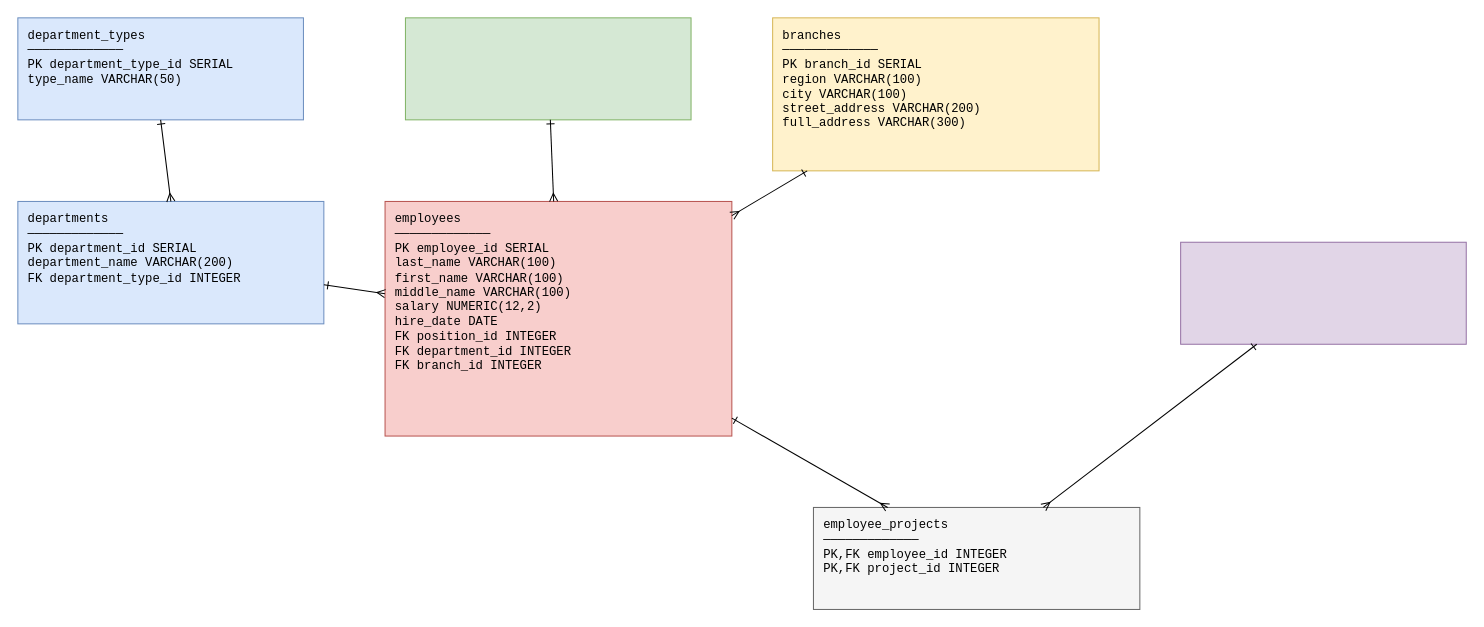
Some shapes in this 1484 by 627 pixel diagram are drawn without their labels. Each missing label, with the box of its shape:
positions ───────────── PK position_id SERIAL position_title VARCHAR(150): (404, 17, 691, 120)
projects ───────────── PK project_id SERIAL project_name VARCHAR(200): (1180, 241, 1466, 344)
